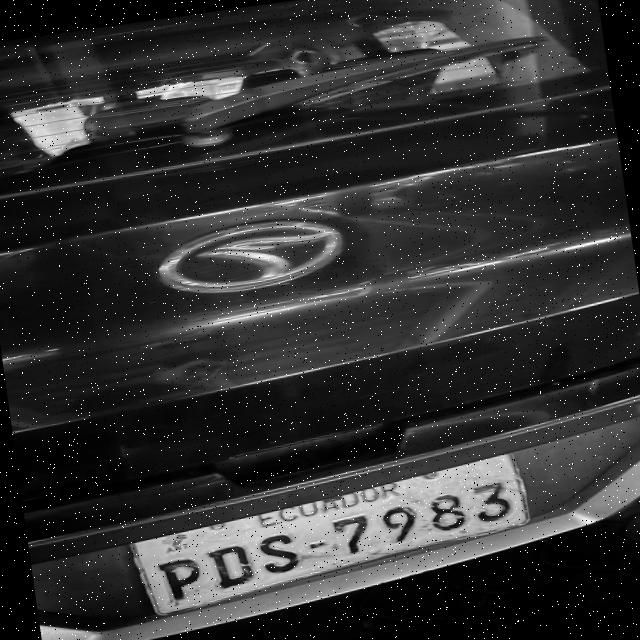Placa: (134, 455, 528, 614)
